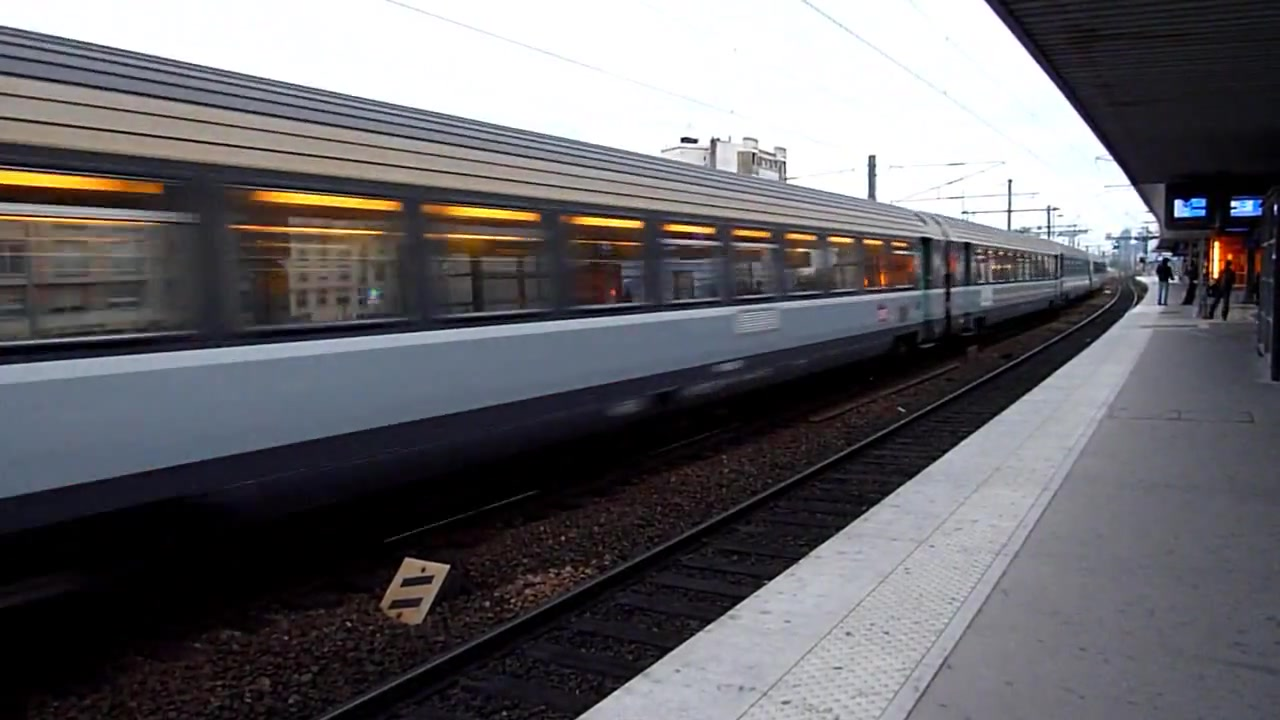train: (1, 19, 1115, 614)
